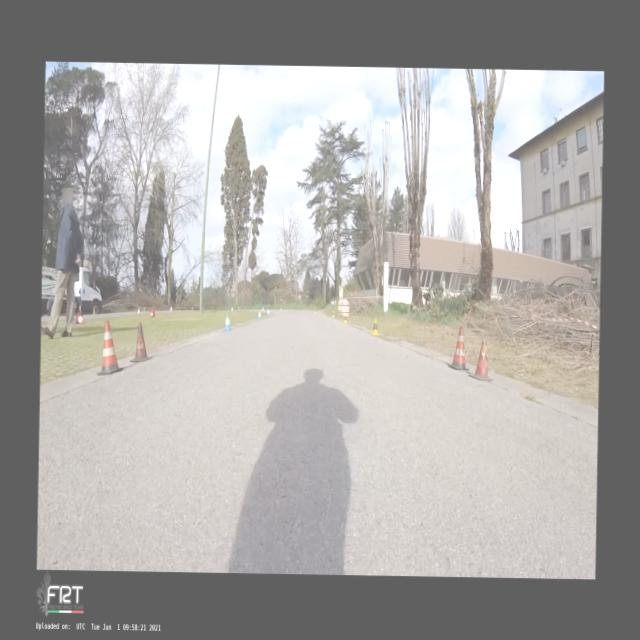blue_cone: (224, 313, 232, 331), (257, 310, 261, 320), (266, 308, 270, 316), (136, 306, 139, 314), (169, 306, 172, 312)
large_orange_cone: (96, 320, 124, 376), (448, 325, 470, 370)
orange_cone: (75, 312, 84, 324), (149, 308, 154, 318)
unknown_cone: (468, 338, 494, 380), (130, 322, 152, 362), (92, 308, 95, 314)
yellow_cone: (370, 317, 380, 336), (343, 314, 347, 324), (332, 309, 334, 317), (314, 306, 316, 314), (280, 304, 282, 310)
